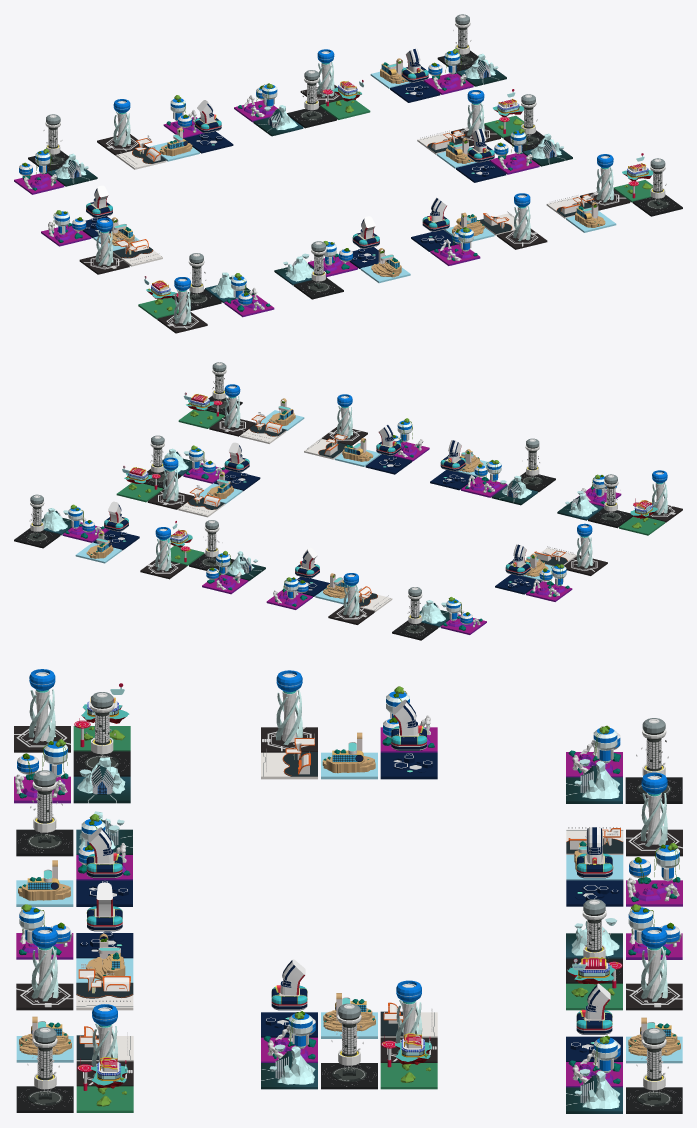
Rendered from D9_Commerce_Part_4.fbx.
The picture shows the model from 3 angles, top to bottom: view 1: azimuth 30°, elevation 25°; view 2: azimuth 150°, elevation 25°; view 3: azimuth 270°, elevation 25°; orthographic projection. The views are drawn at different scales.
Parts seen in each view (by area): view 1: Cube.935, Cube.944, Cube.917, Cube.993, Cube.966, Cube.984, Cube.932, Cube.941, Cube.805, Cube.962, Cube.955, Cube.928 (+39 smaller); view 2: Cube.962, Cube.971, Cube.989, Cube.948, Cube.957, Cube.930, Cube.921, Cube.993, Cube.986, Cube.968, Cube.937, Cube.810 (+36 smaller); view 3: Cube.989, Cube.966, Cube.930, Cube.973, Cube.917, Cube.955, Cube.946, Cube.937, Cube.914, Cube.921, Cube.984, Cube.943 (+39 smaller).
Boxes of the visible parts, box(x1,y1,x2,y2) form: Cube.935: box(390, 48, 440, 102); Cube.944: box(456, 128, 506, 182); Cube.917: box(183, 100, 233, 153); Cube.993: box(79, 218, 129, 274); Cube.966: box(497, 193, 547, 249); Cube.984: box(157, 277, 207, 333); Cube.932: box(423, 48, 473, 94); Cube.941: box(489, 128, 539, 174); Cube.805: box(14, 148, 64, 194); Cube.962: box(411, 197, 459, 251); Cube.955: box(632, 158, 682, 216); Cube.928: box(287, 70, 336, 128); Cube.962: box(365, 424, 411, 474); Cube.971: box(430, 440, 476, 490); Cube.989: box(495, 544, 541, 594); Cube.948: box(147, 457, 193, 509); Cube.957: box(209, 384, 255, 436); Cube.930: box(140, 527, 186, 579); Cube.921: box(328, 573, 374, 624); Cube.993: box(564, 523, 607, 575); Cube.986: box(526, 564, 572, 601); Cube.968: box(461, 460, 507, 497); Cube.937: box(14, 494, 60, 548); Cube.810: box(392, 587, 438, 640); Cube.989: box(380, 699, 437, 779); Cube.966: box(16, 926, 73, 1010); Cube.930: box(626, 926, 682, 1010); Cube.973: box(16, 770, 73, 856); Cube.917: box(566, 827, 623, 906); Cube.955: box(16, 1027, 73, 1112); Cube.946: box(321, 1003, 377, 1089); Cube.937: box(626, 1028, 682, 1113); Cube.914: box(626, 843, 682, 906); Cube.921: box(626, 772, 682, 856); Cube.984: box(14, 669, 70, 752); Cube.943: box(380, 1033, 437, 1089).
Bounding box in the file's own units: 64026 × 5491 × 46976.
22 materials, 20 textured.
